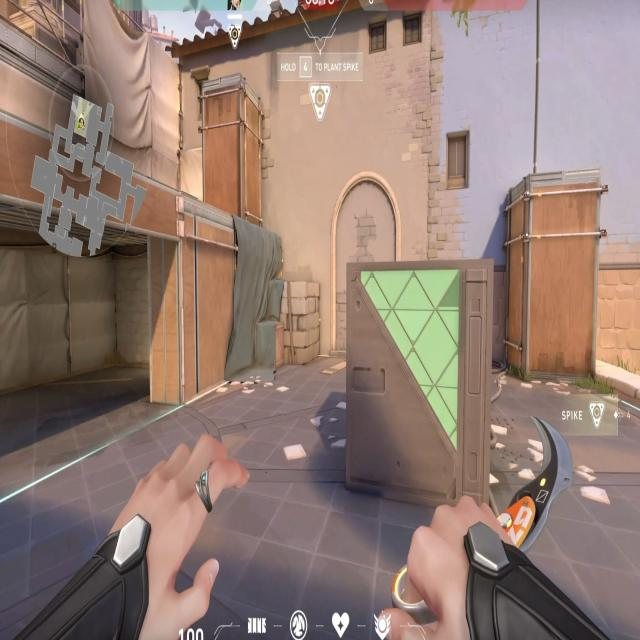A_Heaven_Box: (198, 80, 268, 226)
A_Hell: (0, 181, 199, 468)
A_Site_Box: (345, 257, 494, 511)
